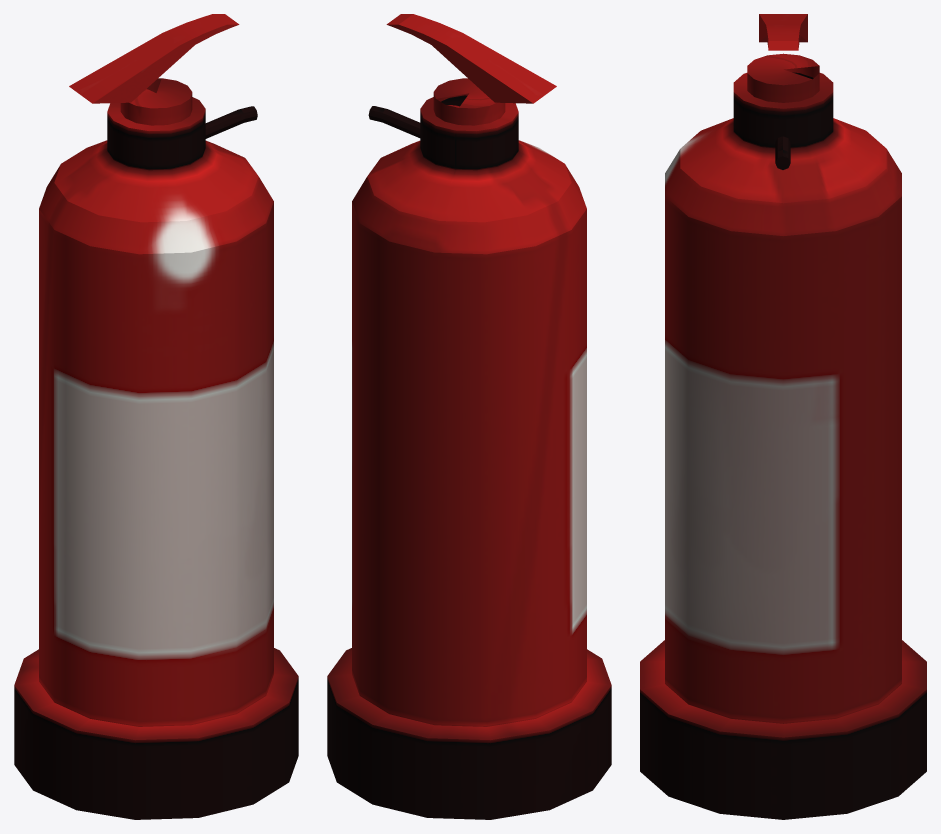
The model's file is Tx_props_firehydrant_49.fbx.
3 renders of one model, left to right at view 1: azimuth 30°, elevation 25°; view 2: azimuth 150°, elevation 25°; view 3: azimuth 270°, elevation 25°, orthographic. The views are drawn at different scales.
Visible parts, largest first — view 1: Tx_props_firehydrant_7; view 2: Tx_props_firehydrant_7; view 3: Tx_props_firehydrant_7.
Part boxes in pixels (x1,y1,x2,y2): Tx_props_firehydrant_7: (14, 14, 298, 819); Tx_props_firehydrant_7: (327, 14, 611, 819); Tx_props_firehydrant_7: (640, 14, 926, 819).
Size of the model in its own units: 1.18 by 3.31 by 1.15.
